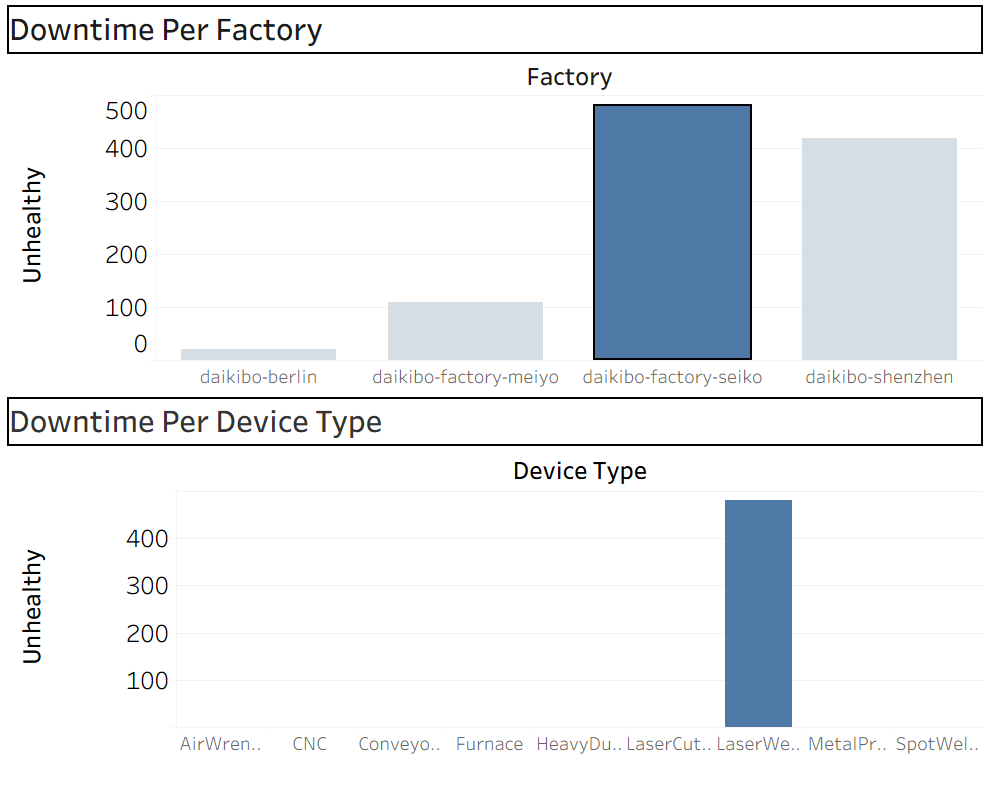

The dashboard page shown, as its layout file describes it:
{"tool":"tableau","page":{"name":"Dashboard ","canvas":[1000,800],"ordinal":0},"visuals":[{"type":"worksheet","title":"Downtime Per Factory","mark":"Automatic","rows":["Calculation_0484370408226816"],"cols":["factory"],"box":[8,8,984,392]},{"type":"worksheet","title":"Downtime Per Device Type","mark":"Automatic","rows":["Calculation_0484370408226816"],"cols":["deviceType"],"box":[8,400,984,392]}]}

Visuals, with their boxes in screenshot pixels (x1, y1, x2, y2), scaled from the page's 1000x800 canvas onto the 989x788 screenshot:
"Downtime Per Factory" worksheet: select_region(8, 8, 981, 394)
"Downtime Per Device Type" worksheet: select_region(8, 394, 981, 780)
